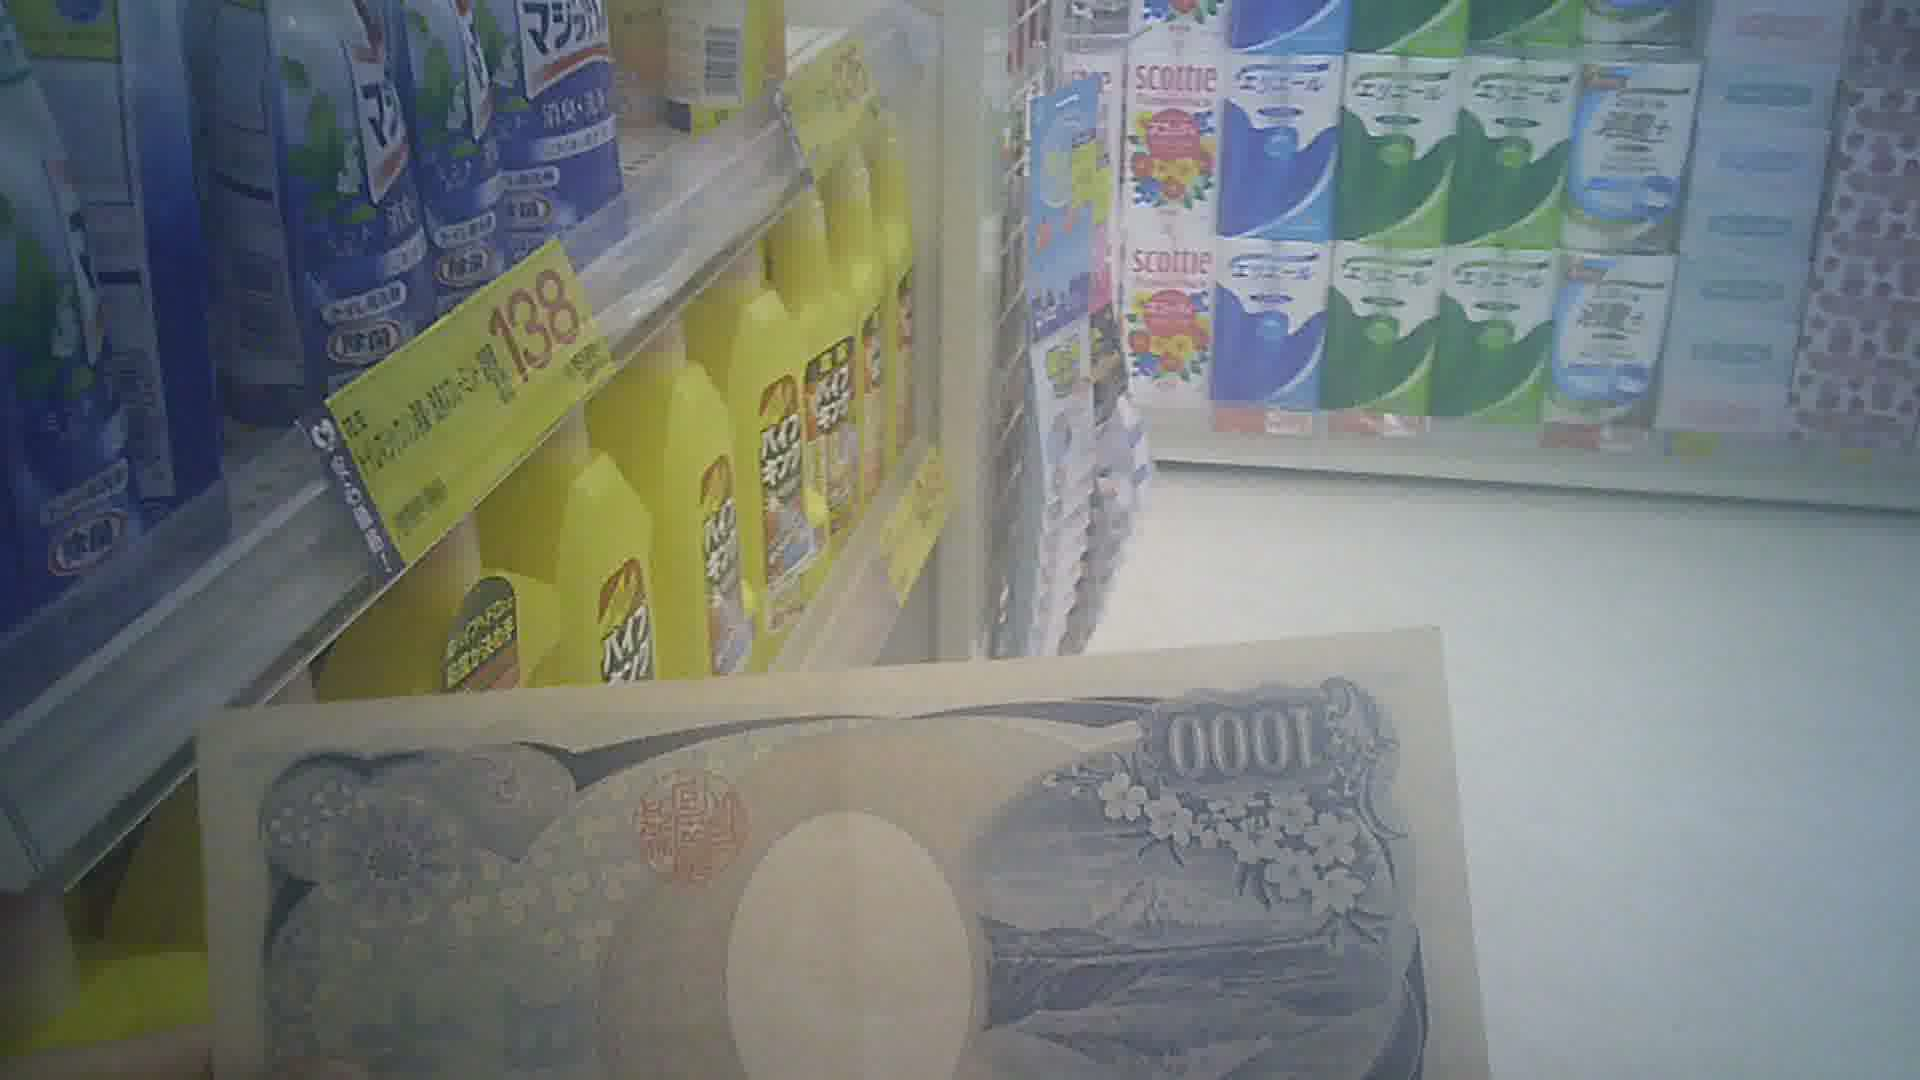1,000 Yen: (185, 620, 1519, 1062)
